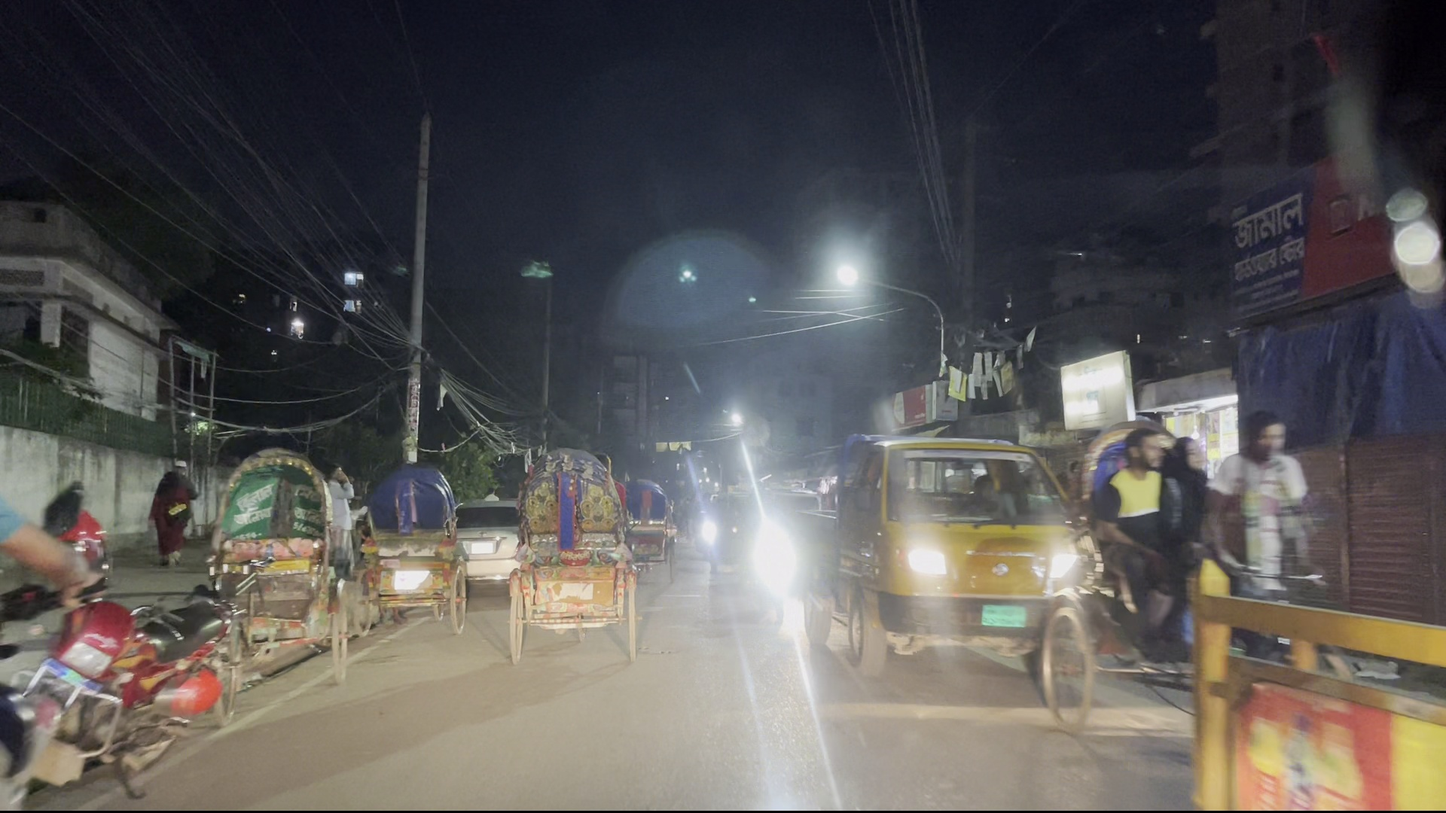car: (856, 407, 1097, 661), (445, 481, 534, 606)
motorcycle: (50, 592, 239, 775), (737, 504, 802, 637), (700, 505, 730, 566)
person: (1126, 411, 1236, 682), (1088, 413, 1184, 664), (1228, 415, 1311, 603), (142, 442, 203, 575), (51, 469, 111, 592)
